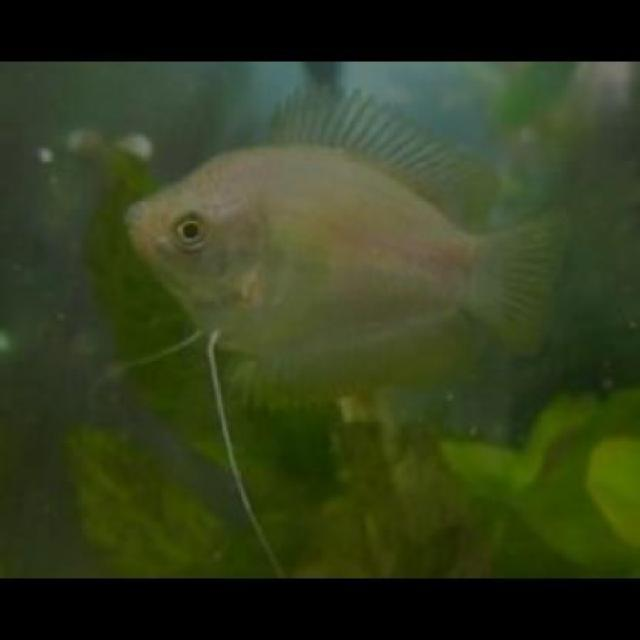Gourami: (120, 84, 575, 404)
